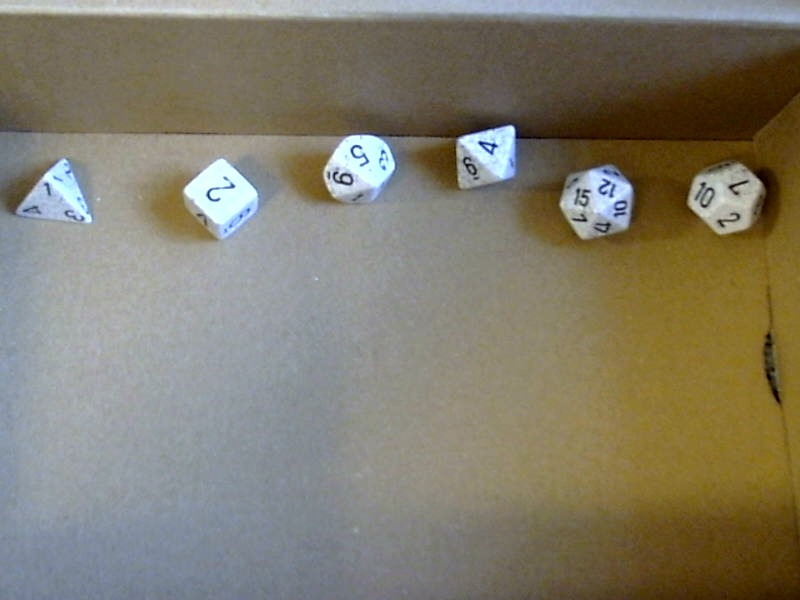d10 5: (312, 130, 398, 210)
d12 7: (683, 154, 770, 242)
d20 12: (554, 159, 637, 247)
d4 1: (7, 150, 96, 233)
d6 2: (172, 152, 266, 248)
d8 4: (445, 117, 524, 198)
